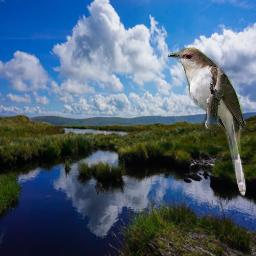Cuckoo: (166, 47, 247, 197)
